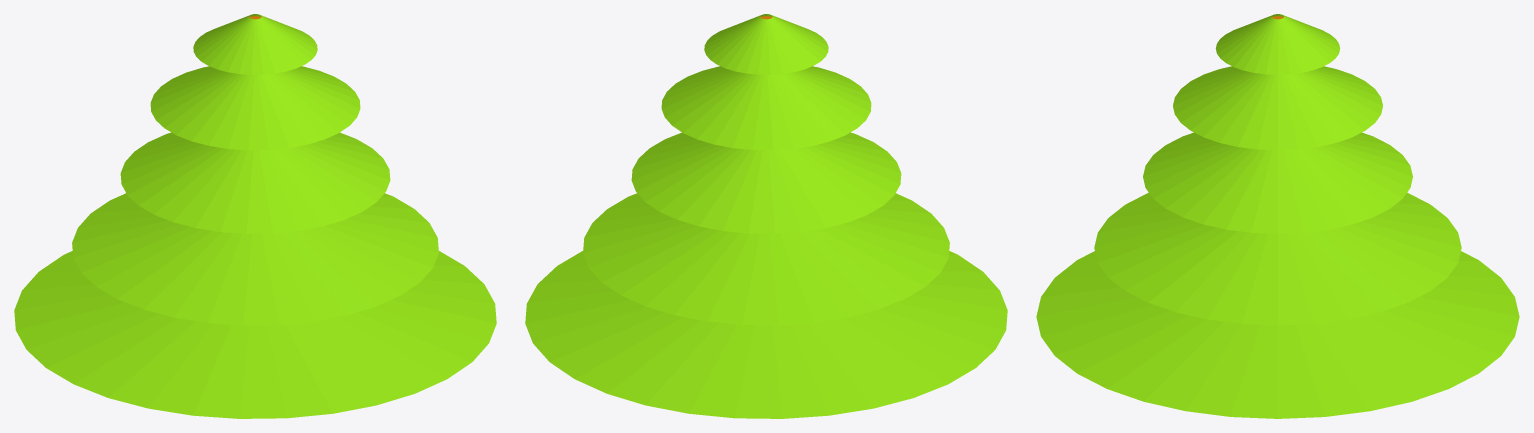
Rendered from choinka1.gltf.
3 views of the same model, side by side, from view 1: azimuth 30°, elevation 25°; view 2: azimuth 150°, elevation 25°; view 3: azimuth 270°, elevation 25° (orthographic).
Parts seen in each view (by area): view 1: Circle.004, Circle.003, Circle.002, Circle.001, Circle; view 2: Circle.004, Circle.003, Circle.002, Circle.001, Circle; view 3: Circle.004, Circle.003, Circle.002, Circle.001, Circle.
Part boxes in pixels (x1=…): Circle.004: x1=14, y1=251, x2=496, y2=418; Circle.003: x1=72, y1=193, x2=438, y2=325; Circle.002: x1=120, y1=132, x2=390, y2=233; Circle.001: x1=150, y1=66, x2=360, y2=150; Circle: x1=193, y1=14, x2=317, y2=74; Circle.004: x1=525, y1=251, x2=1007, y2=418; Circle.003: x1=583, y1=193, x2=949, y2=325; Circle.002: x1=631, y1=132, x2=901, y2=233; Circle.001: x1=661, y1=66, x2=871, y2=150; Circle: x1=704, y1=14, x2=828, y2=74; Circle.004: x1=1036, y1=251, x2=1519, y2=418; Circle.003: x1=1094, y1=192, x2=1461, y2=325; Circle.002: x1=1143, y1=132, x2=1412, y2=233; Circle.001: x1=1173, y1=66, x2=1382, y2=150; Circle: x1=1215, y1=14, x2=1340, y2=74.
Size of the model in its own units: 7.76 by 6.18 by 7.76.
